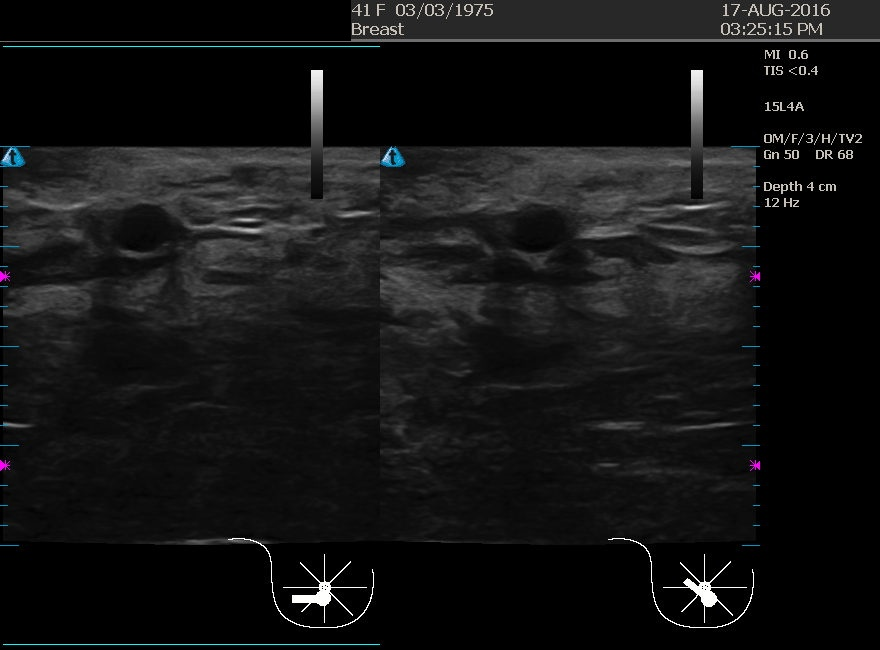BIRADS_2: (27, 193, 227, 393), (411, 152, 611, 352)
